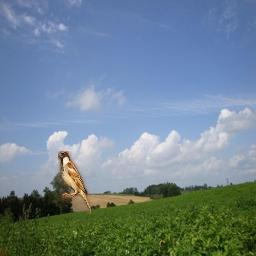Sparrow: (58, 151, 91, 214)
